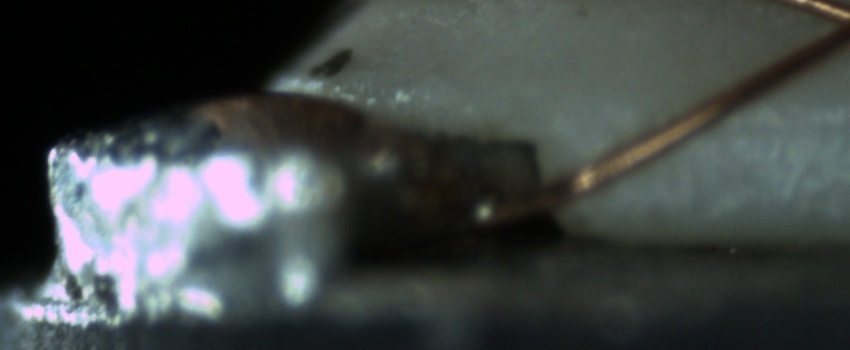CL: (801, 0, 850, 61)
DL: (697, 94, 850, 159)
